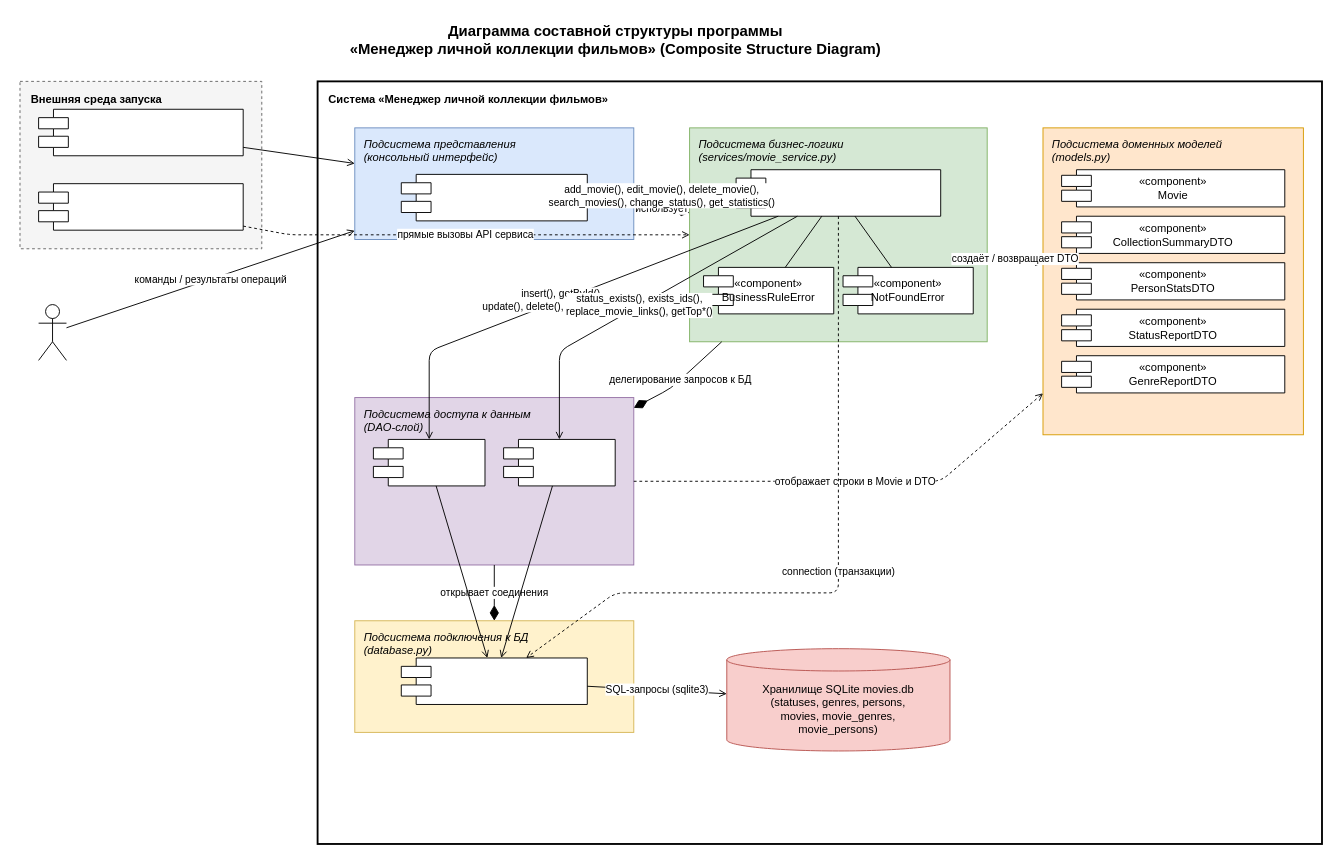
This 1339x860 diagram has some shape labels left out. The shapes that lost their labels are listed below. From the top down, each one's centre as x and y in pixels, then its label:
point 140,132: «component» main.py (точка входа, CLI-демонстрация)
point 140,206: «component» tests.py, test_logic.py (тесты)
point 493,197: «component» ConsoleUI
point 838,192: «component» MovieService
point 52,332: Пользователь
point 428,462: «component» MovieDAO
point 559,462: «component» StatsDAO
point 493,680: «component» get_connection()
